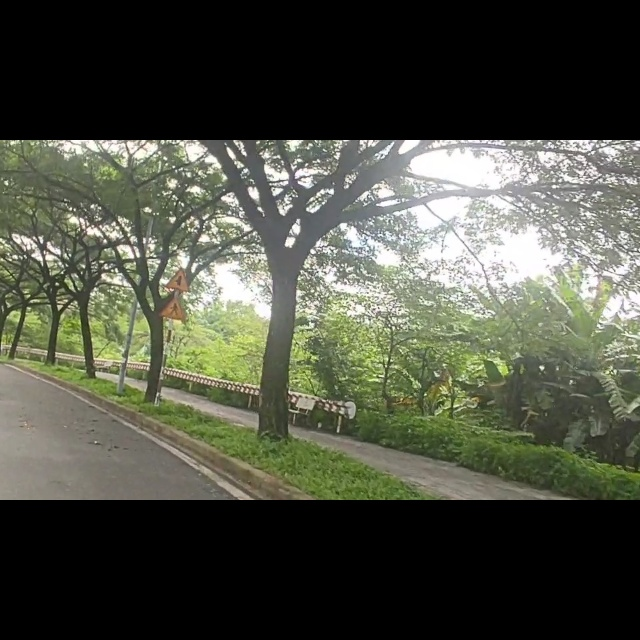bien_nguy_hiem: (158, 273, 190, 322), (164, 223, 195, 270)
